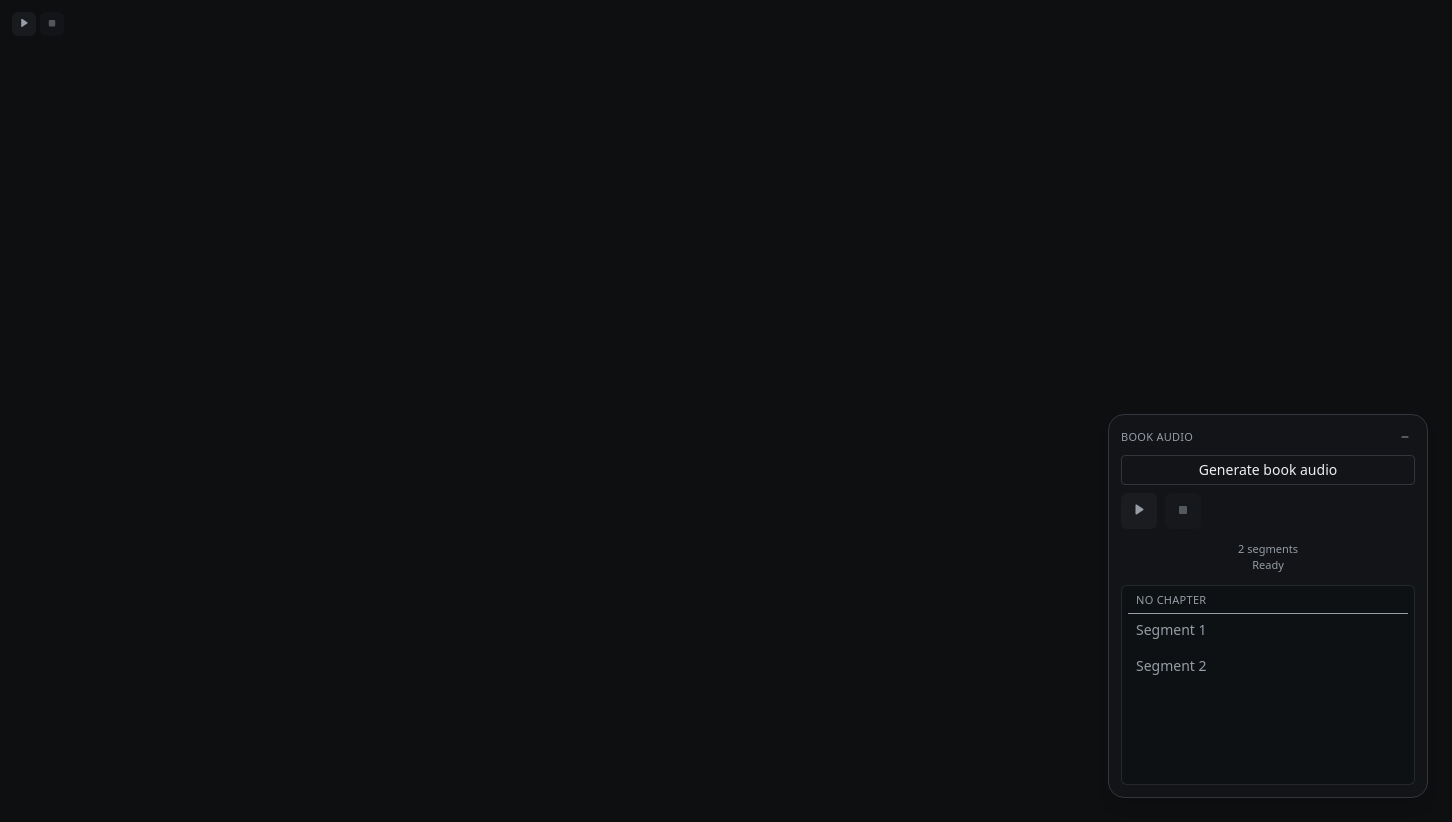
it: book audio UI and lifetime › prepares the whole book without autoplay and reports completion
Click the button "Generate book audio". click: {"x": 1268, "y": 470}
box: left=1121, top=455, right=1415, bottom=485
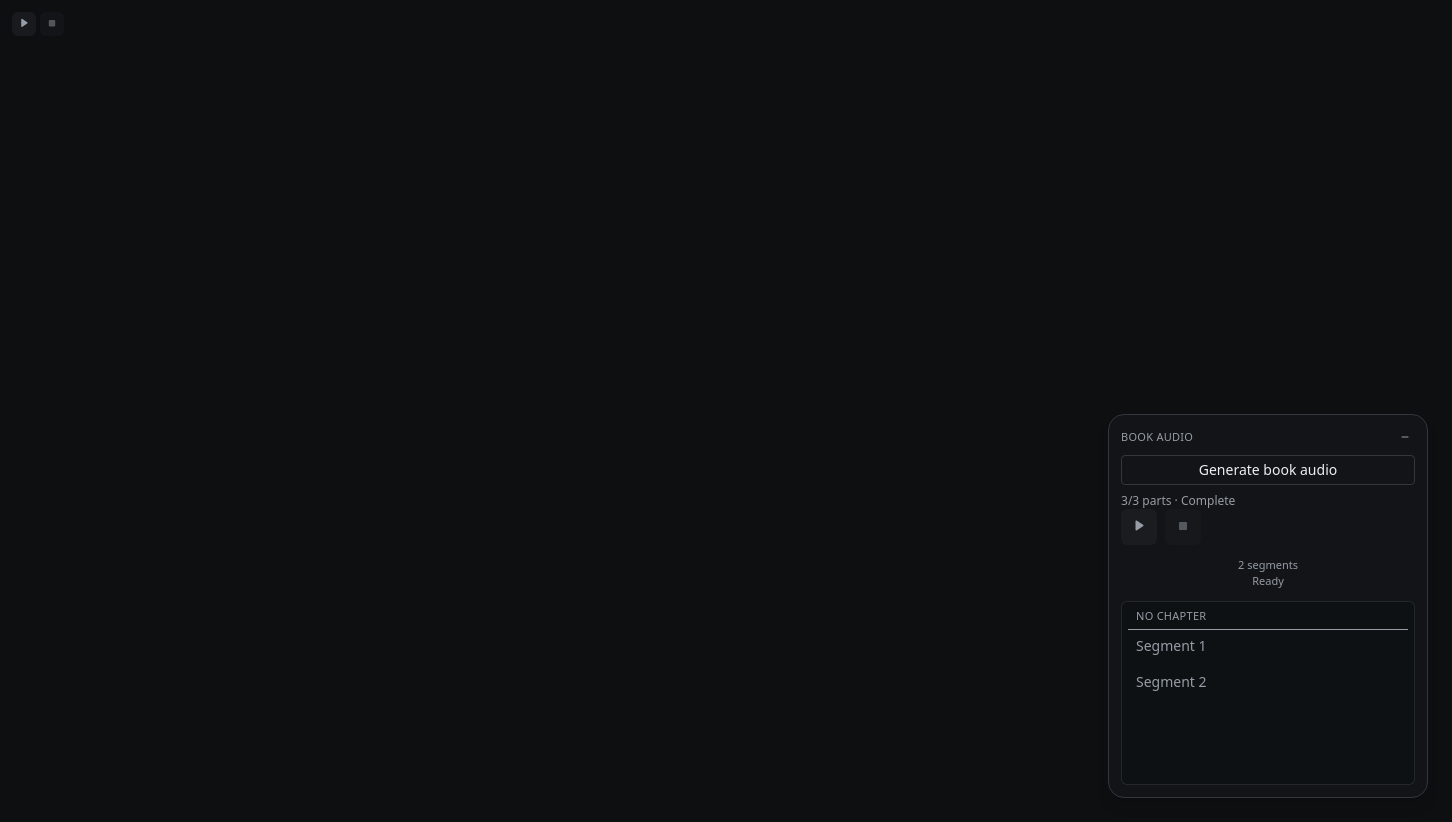
Expected: the text "3/3 parts · Complete" is shown, left=1121, top=492, right=1235, bottom=509
